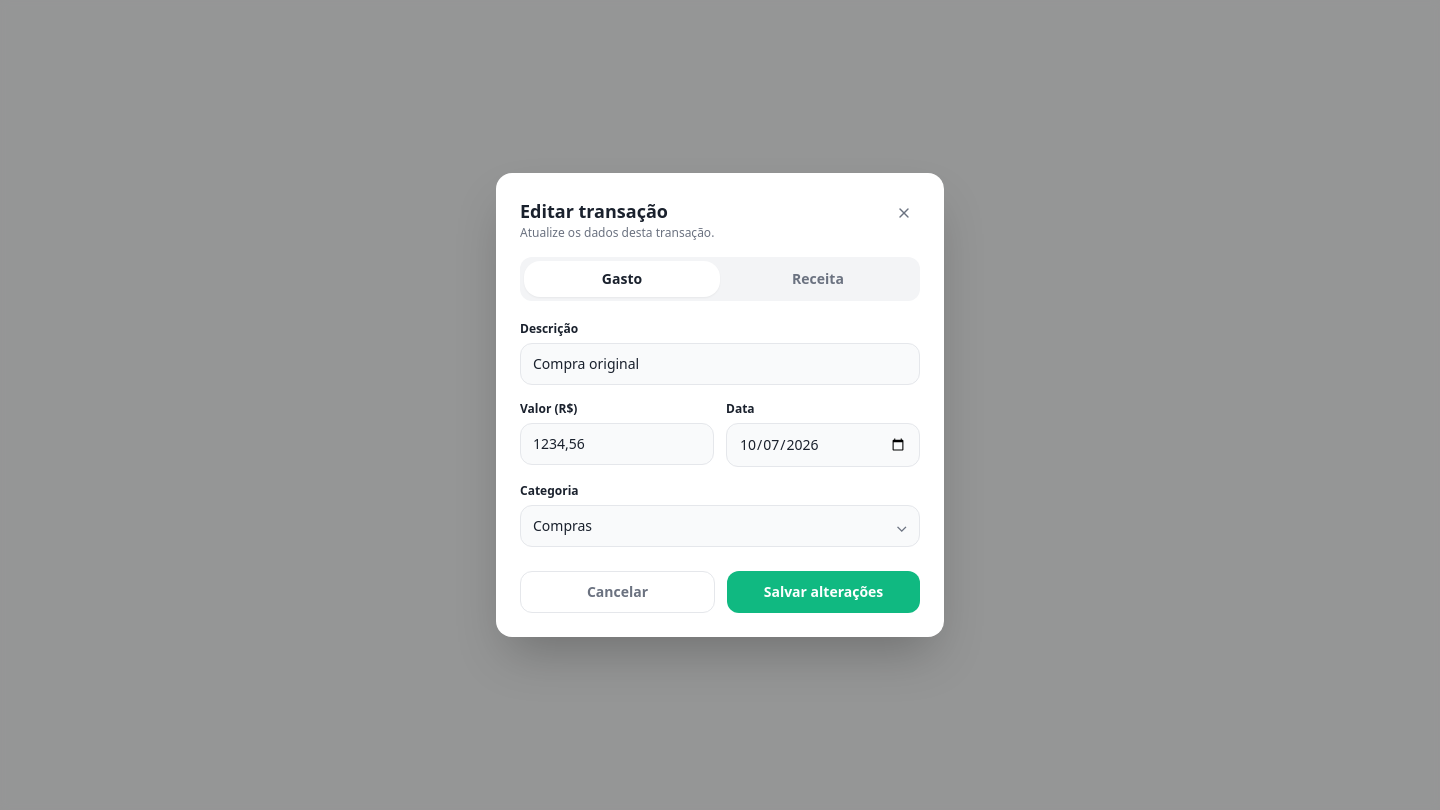
it: AddTransactionModal › keeps the form open and retains edits when saving fails
Expected: the dropdown labelled "Categoria" shows "Compras", top-left (520, 505), bottom-right (920, 547)
Replace the text in the field labelled "Descrição" with "Correção" at {"x": 720, "y": 364}, box top-left (520, 343), bottom-right (920, 385)
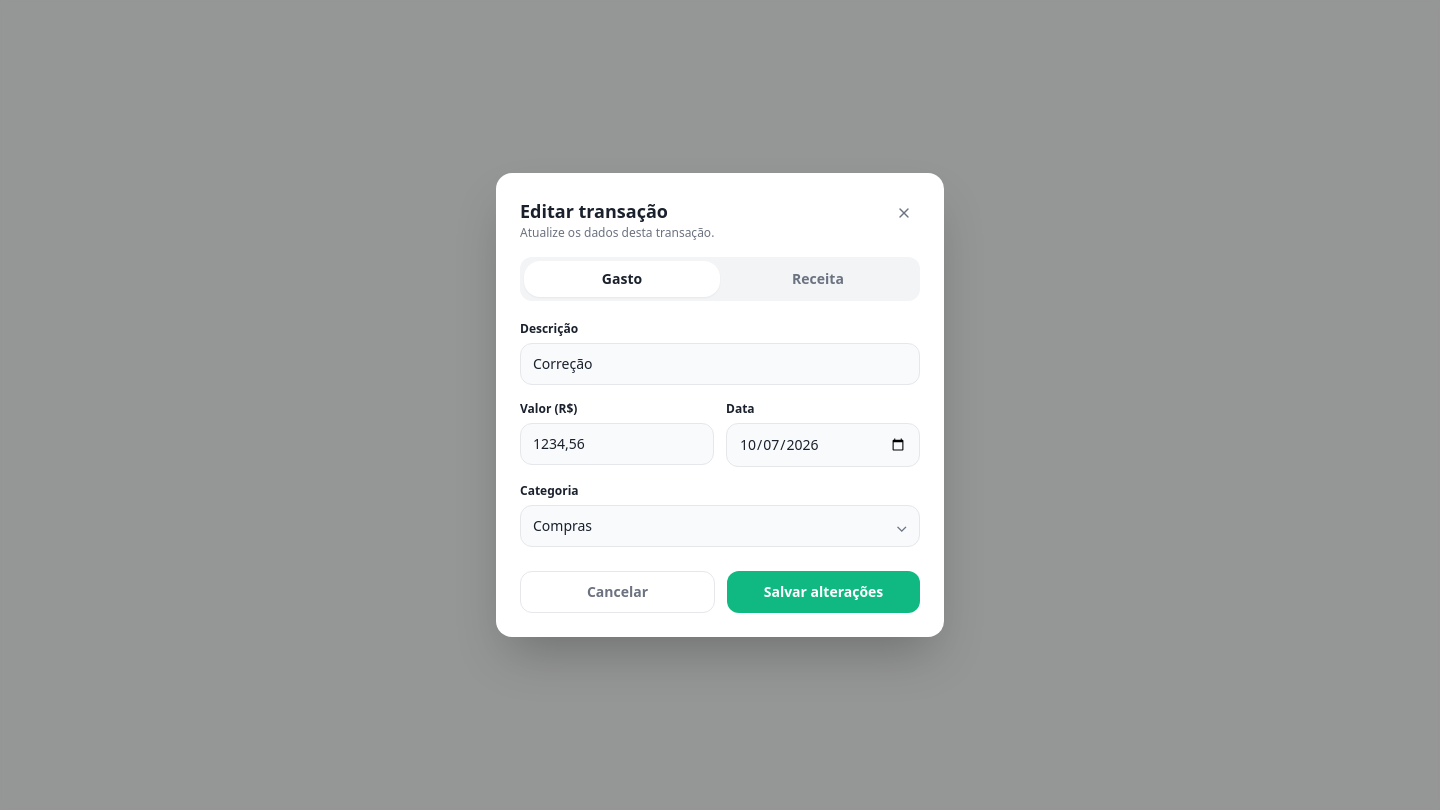
Click the button "Salvar alterações" at {"x": 824, "y": 592}, box top-left (727, 571), bottom-right (920, 613)
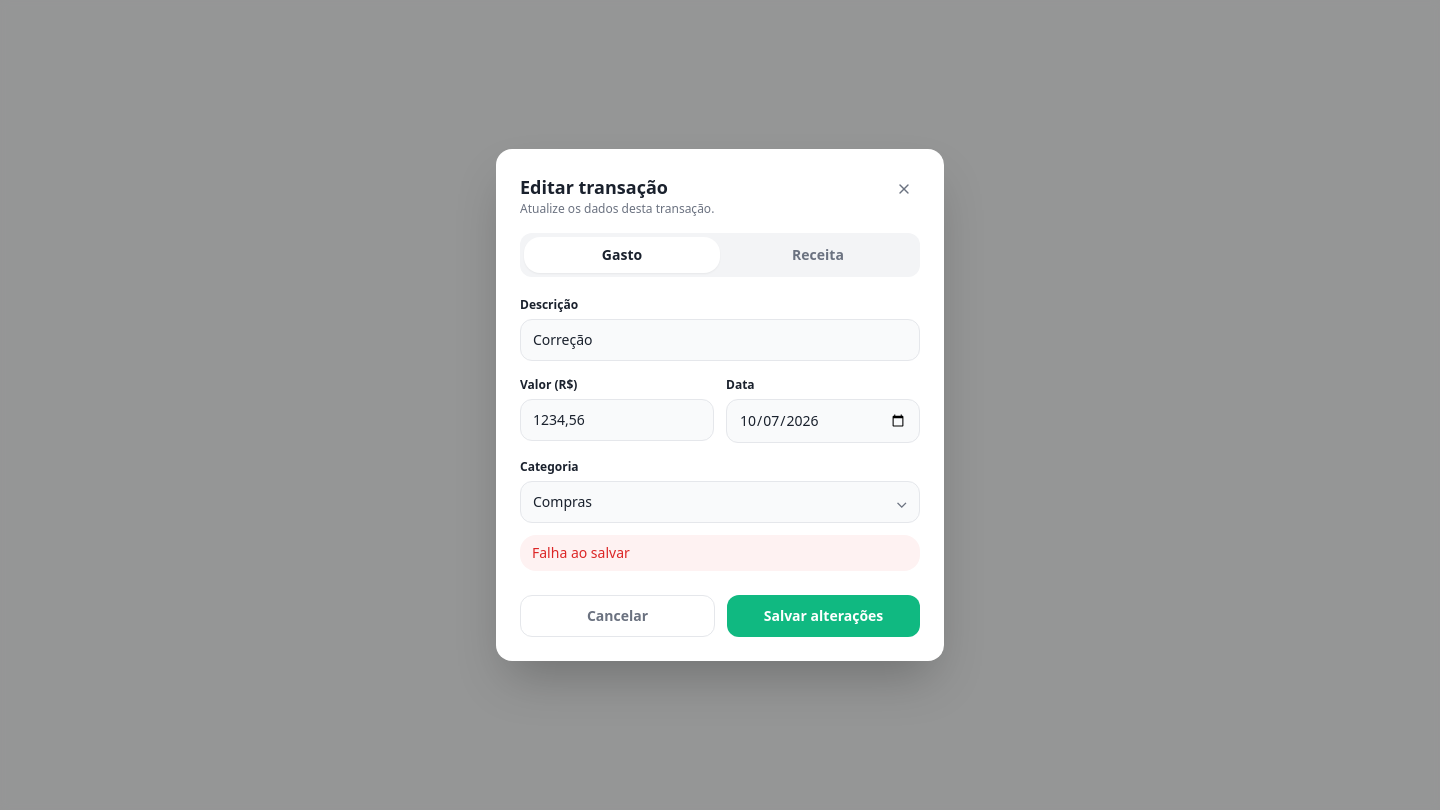
Expected: the message reads "Falha ao salvar", top-left (532, 543), bottom-right (630, 562)
